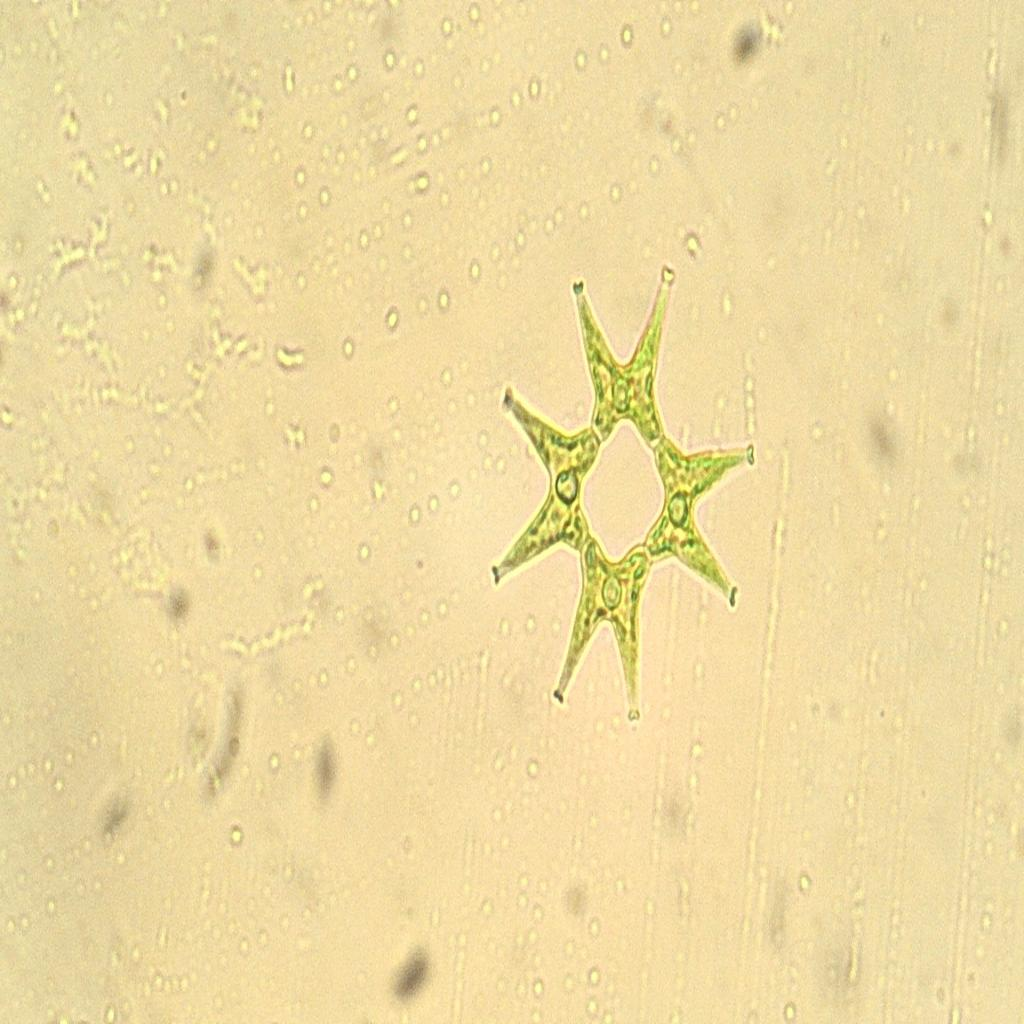Pediastrum_CO: (469, 262, 772, 737)
